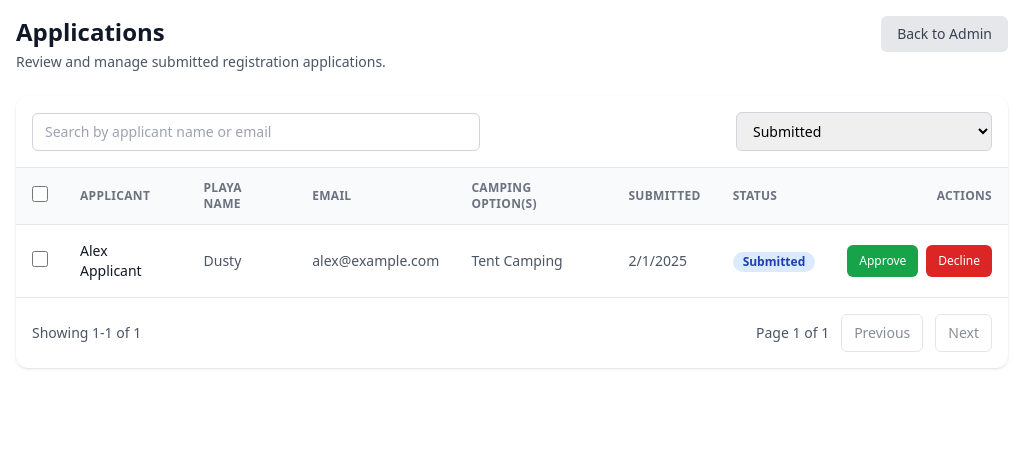
Test: AdminApplicationsPage › supports bulk approval for selected applications
The width and height of the screenshot is (1024, 466).
Expected: the text "Alex Applicant" is shown, x1=64 y1=224 x2=188 y2=297
Click the checkbox named "Select Alex Applicant".
click(40, 259)  # box x1=32 y1=251 x2=48 y2=267
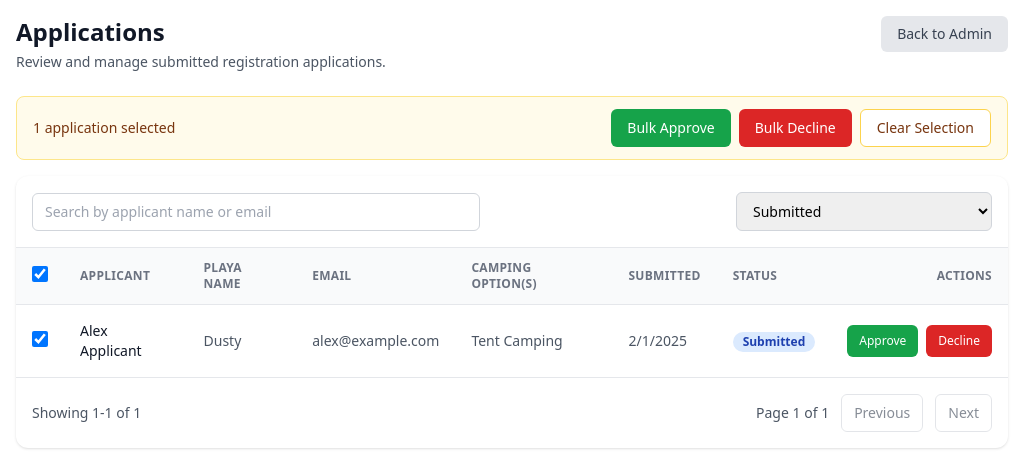
Click the button "Bulk Approve".
click(671, 128)  # box x1=611 y1=109 x2=731 y2=147
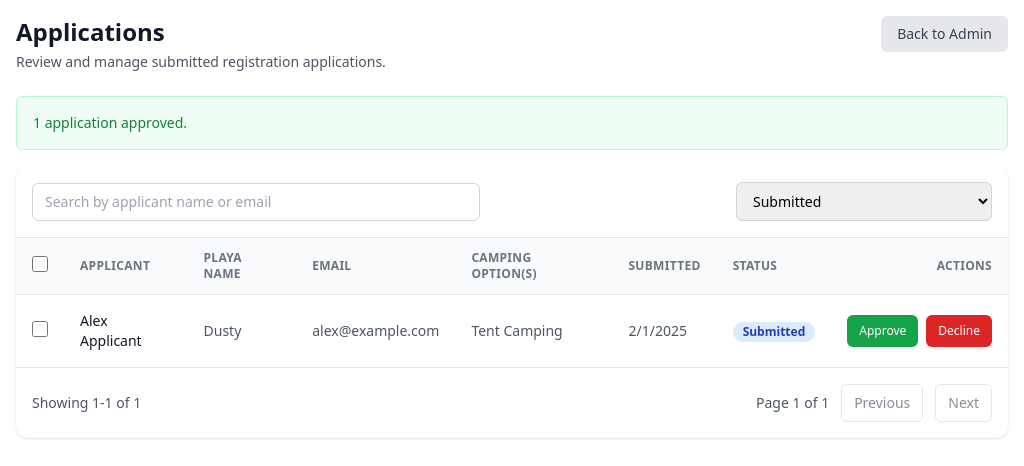
Result: the text "1 application approved." is shown at x1=16 y1=96 x2=1008 y2=150
